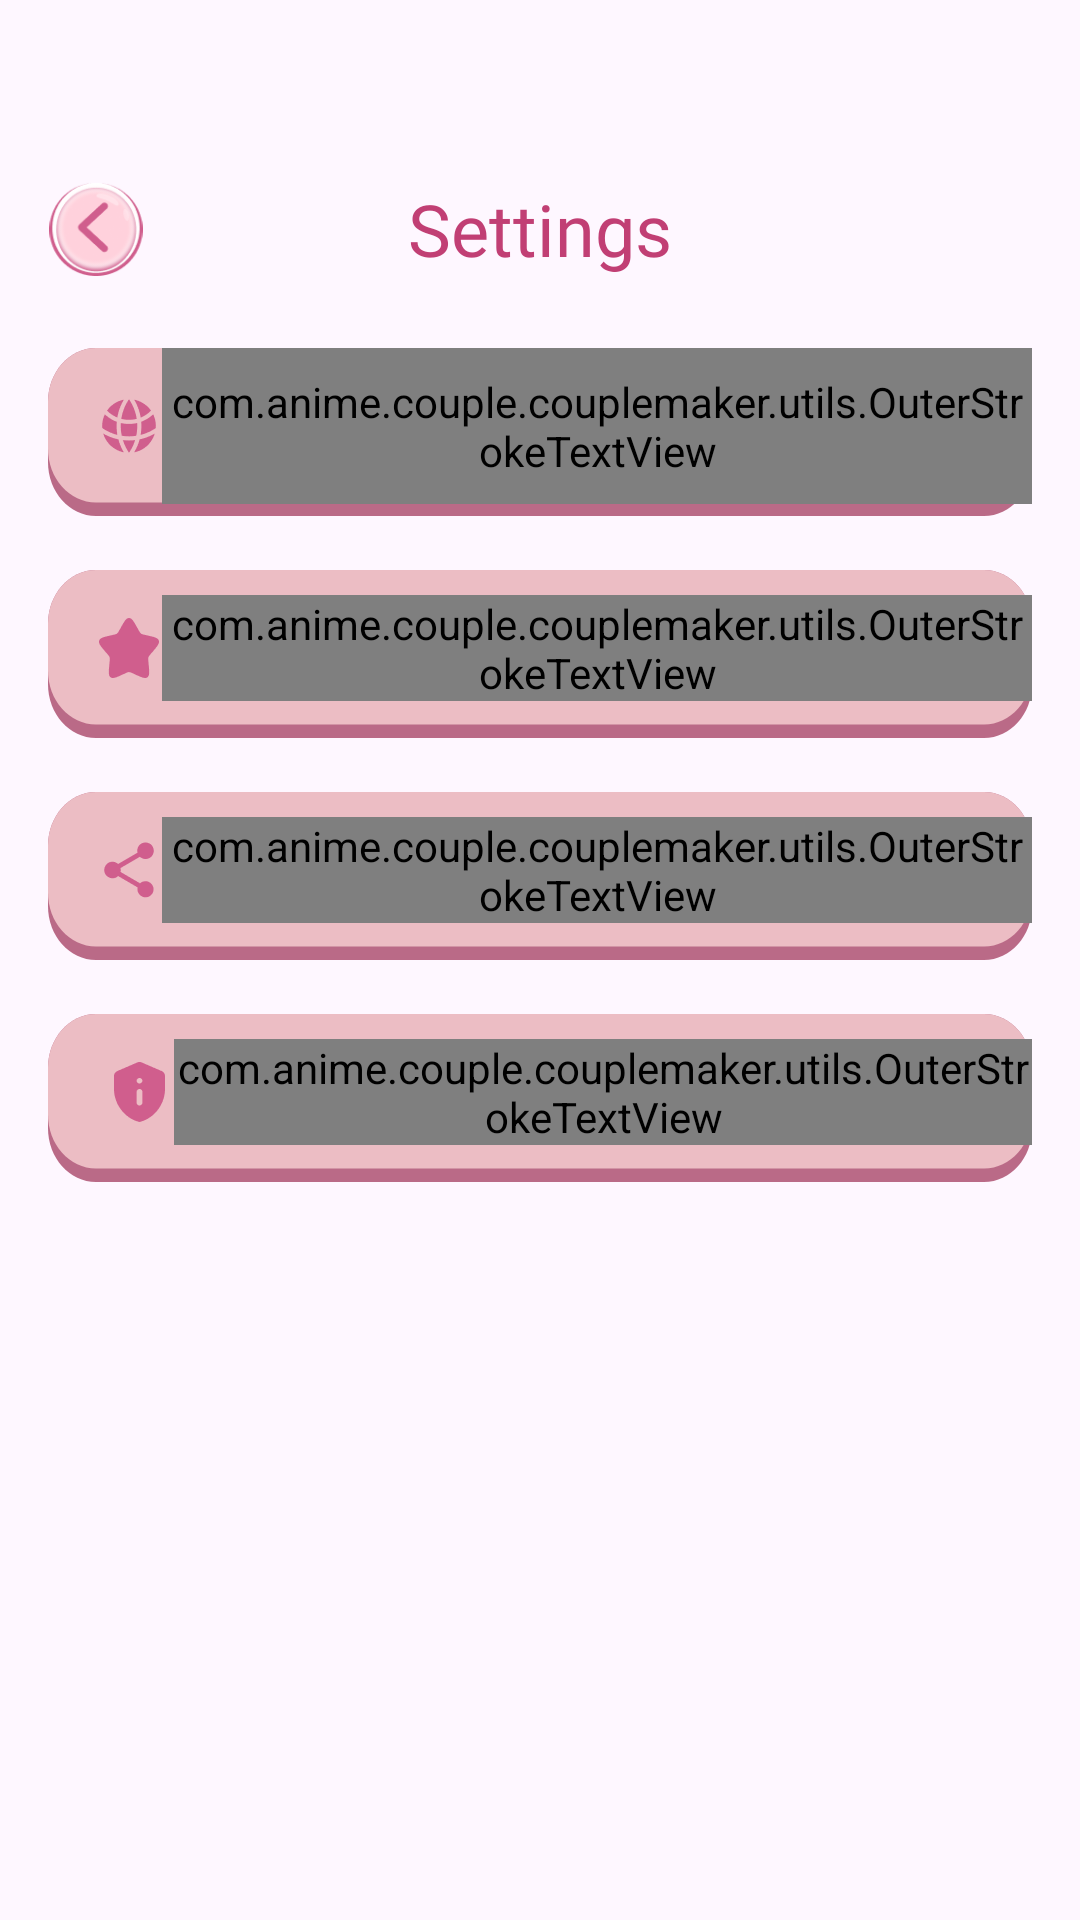

Where to tap for icons on this 1080w x 1920h app screen, as (x=x, y=y):
back app: (x=96, y=231)
lang set: (x=129, y=426)
policy set: (x=139, y=1092)
reate set: (x=129, y=648)
share set: (x=129, y=869)
